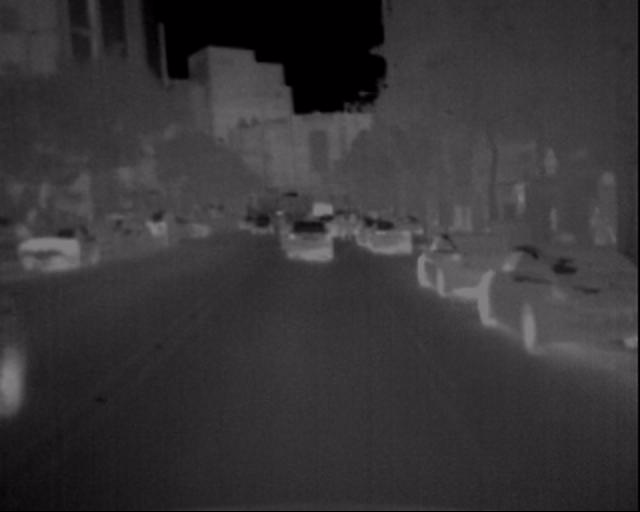person: (587, 200, 619, 269)
